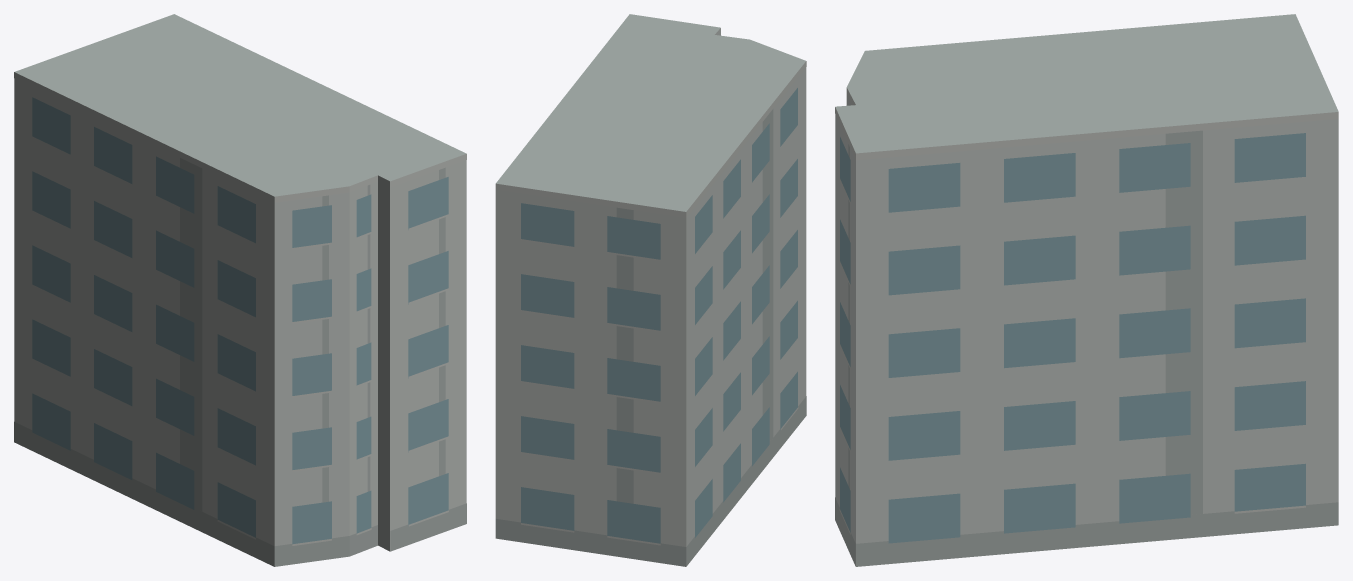
File: survey-upis-32699081.glb
3 views of the same model, side by side, from view 1: azimuth 30°, elevation 25°; view 2: azimuth 150°, elevation 25°; view 3: azimuth 270°, elevation 25° (orthographic). The views are drawn at different scales.
Parts seen in each view (by area): view 1: survey-upis-32699081.tmp; view 2: survey-upis-32699081.tmp; view 3: survey-upis-32699081.tmp.
Part boxes in pixels (x1,y1,x2,y2): survey-upis-32699081.tmp: (14, 14, 466, 566); survey-upis-32699081.tmp: (495, 14, 806, 566); survey-upis-32699081.tmp: (835, 14, 1338, 566).
Bounding box in the file's own units: 10.42 × 14.4 × 15.91.
